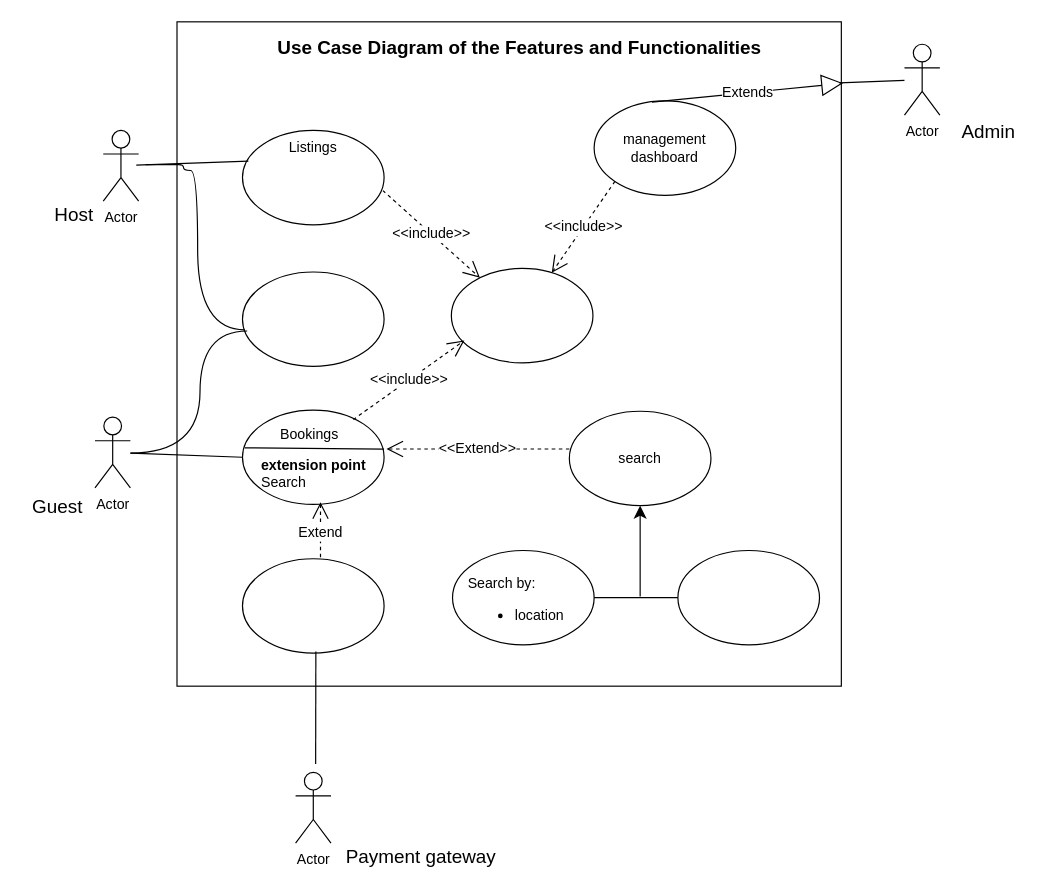
The diagram is 1044 pixels wide and 894 high, and some of its shapes have lost their labels. The shapes that lost their labels are listed below. From the top down, each one's centre as x and y in pixels, then its label:
pixel 312 318: Reviews
pixel 521 315: Login
pixel 312 605: Payment
pixel 748 597: Search by: Amenities
